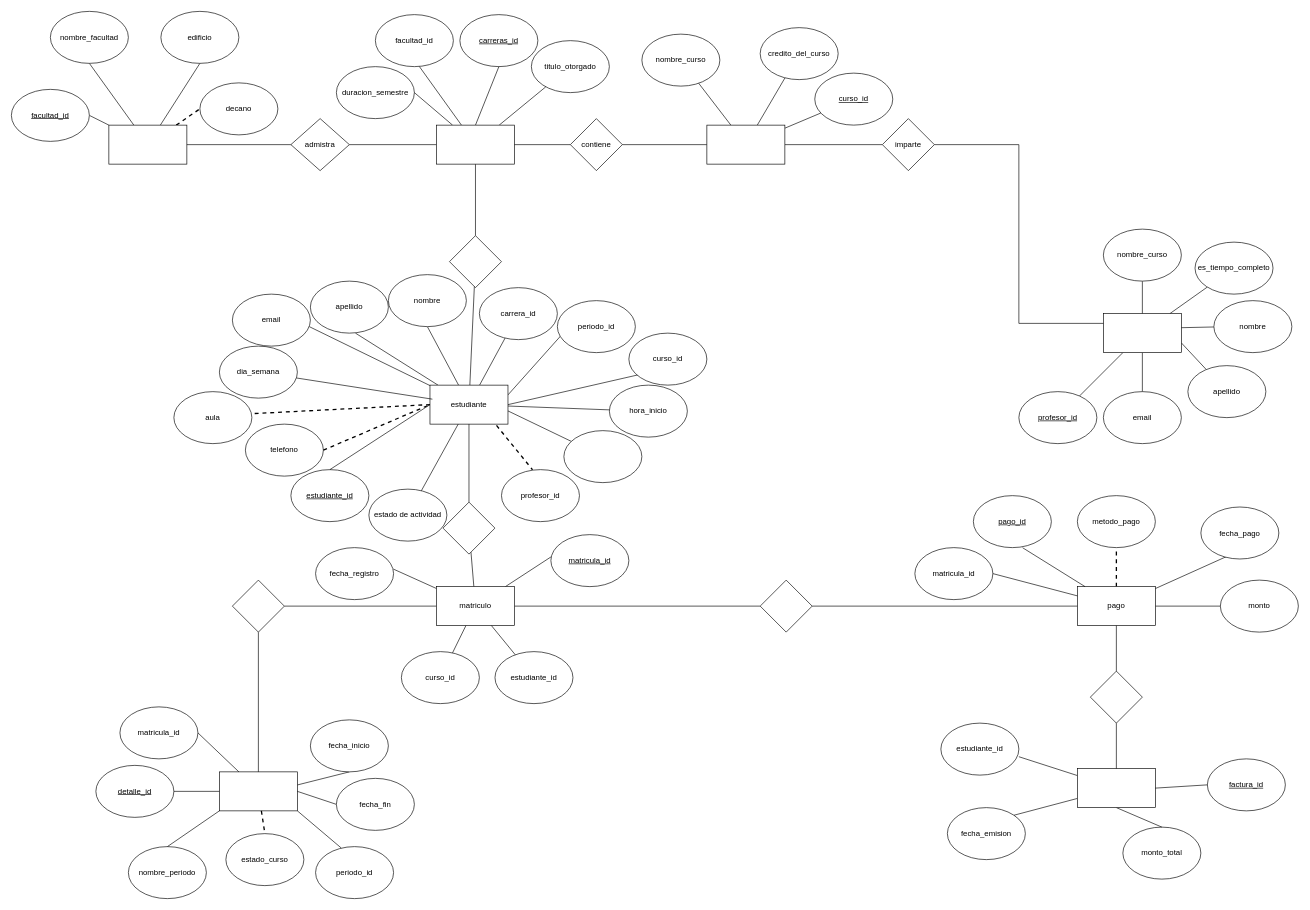
Some shapes in this 1310 by 910 pixel diagram are drawn without their labels. The centre of each missing label's shape, as x and y in pixels:
"abono" belongs at pixel 786 605.
"carrera" belongs at pixel 475 144.
"cursa" belongs at pixel 475 261.
"Curso" belongs at pixel 745 144.
"detalle_matricula" belongs at pixel 258 791.
"factura" belongs at pixel 1116 788.
"facultad" belongs at pixel 147 144.
"hora_fin" belongs at pixel 602 456.
"profesor" belongs at pixel 1142 333.
"realizar" belongs at pixel 468 527.
"Registra" belongs at pixel 258 605.
"saldar" belongs at pixel 1116 696.
